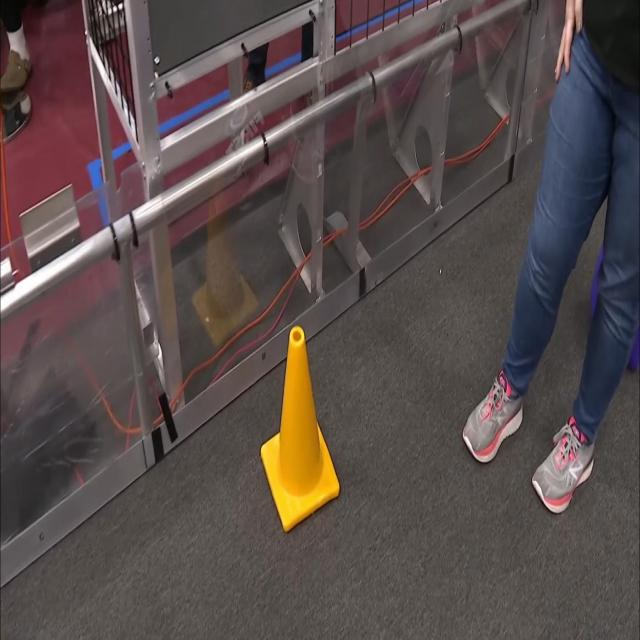frc_cone: (258, 319, 339, 530)
